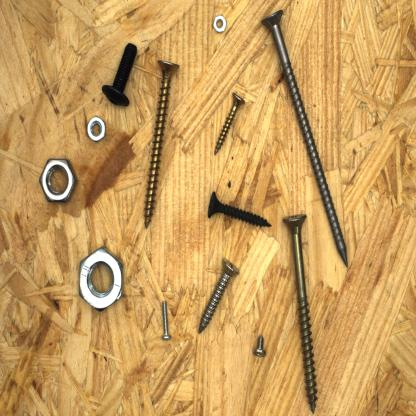screw: (259, 4, 352, 272), (278, 209, 321, 416), (142, 54, 181, 232), (193, 252, 244, 336), (98, 40, 140, 114), (207, 188, 273, 231), (213, 89, 247, 159), (156, 298, 173, 343), (252, 332, 268, 360)
